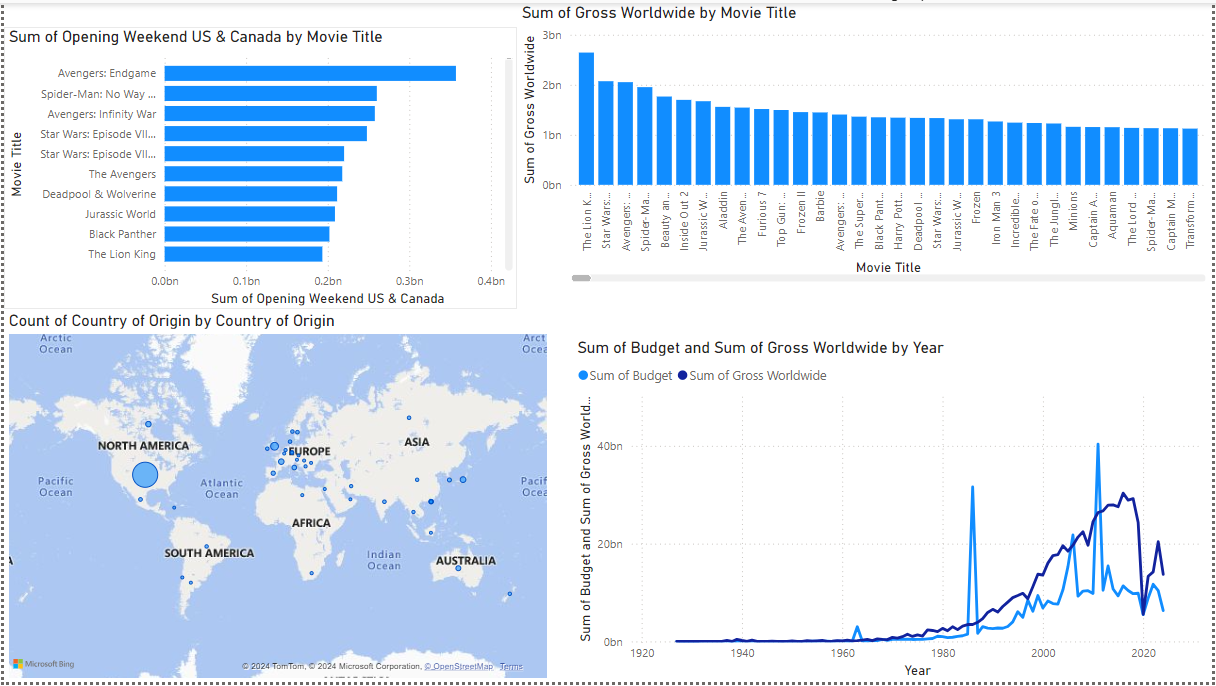

The dashboard page shown, as its layout file describes it:
{"tool":"powerbi","page":{"name":"Page 2","canvas":[1280,720],"ordinal":1},"visuals":[{"type":"lineStackedColumnComboChart","fields":{"Category":["cleaned_data_imdb.Movie Title"],"Y":["Sum(cleaned_data_imdb.Gross Worldwide)"]},"box":[544.3,0,735.1,300.5],"z":0},{"type":"lineChart","fields":{"Category":["cleaned_data_imdb.Year"],"Y":["Sum(cleaned_data_imdb.Budget)","Sum(cleaned_data_imdb.Gross Worldwide)"]},"box":[603,355,676,365],"z":1000},{"type":"clusteredBarChart","fields":{"Category":["cleaned_data_imdb.Movie Title"],"Y":["Sum(cleaned_data_imdb.Opening Weekend US & Canada)"]},"box":[0,25,544,300],"z":2000},{"type":"map","fields":{"Category":["cleaned_data_imdb.Country of Origin"],"Size":["CountNonNull(cleaned_data_imdb.Country of Origin)"]},"box":[0,325.5,580.4,394.1],"z":3000}]}

Visuals, with their boxes in screenshot pixels (x1, y1, x2, y2), scaled from the page's 1280x720 canvas onto the 1216x686 screenshot:
lineStackedColumnComboChart - cleaned_data_imdb.Movie Title x Sum(cleaned_data_imdb.Gross Worldwide): <region>517, 0, 1215, 286</region>
lineChart - cleaned_data_imdb.Year x Sum(cleaned_data_imdb.Budget): <region>573, 338, 1215, 685</region>
clusteredBarChart - cleaned_data_imdb.Movie Title x Sum(cleaned_data_imdb.Opening Weekend US & Canada): <region>0, 24, 517, 310</region>
map - cleaned_data_imdb.Country of Origin x CountNonNull(cleaned_data_imdb.Country of Origin): <region>0, 310, 551, 685</region>
